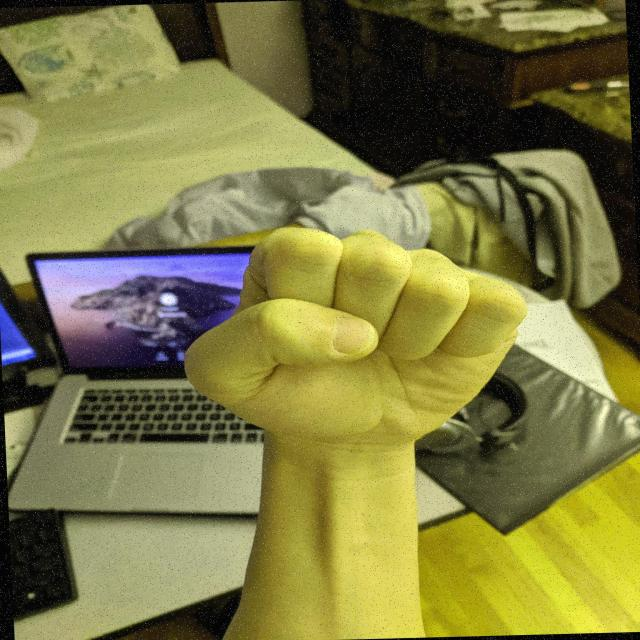S: (170, 212, 540, 458)
